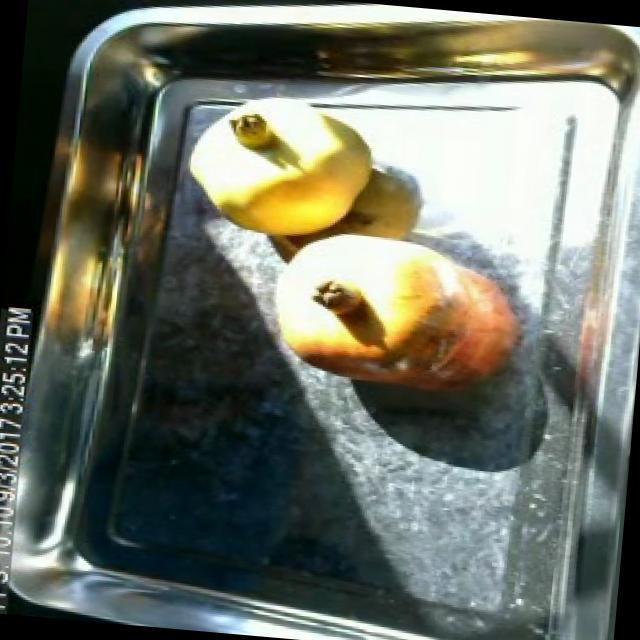fruit: (258, 223, 500, 404), (173, 88, 391, 255)
